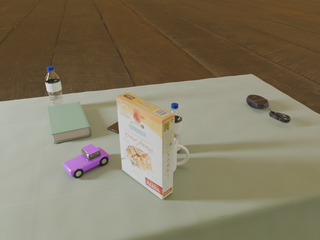book: (47, 102, 91, 143)
bottle: (45, 66, 64, 106), (169, 103, 182, 152)
box: (116, 92, 175, 199)
mouse: (247, 95, 269, 109)
phone: (108, 122, 119, 133)
toy_car: (63, 144, 109, 178)
